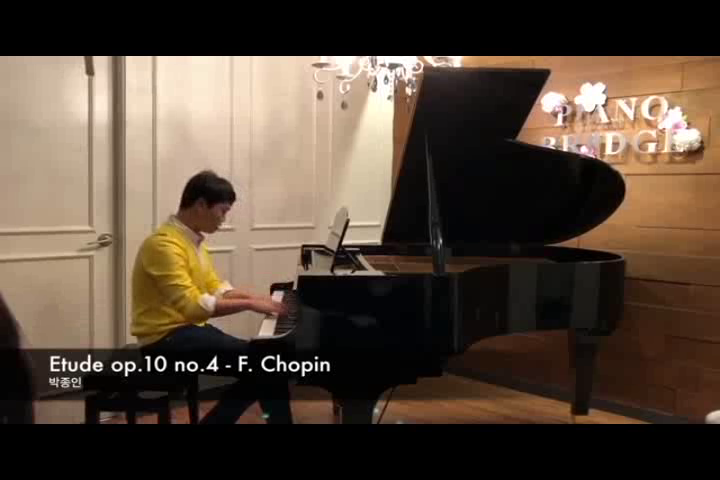keyboard: (253, 284, 300, 347)
